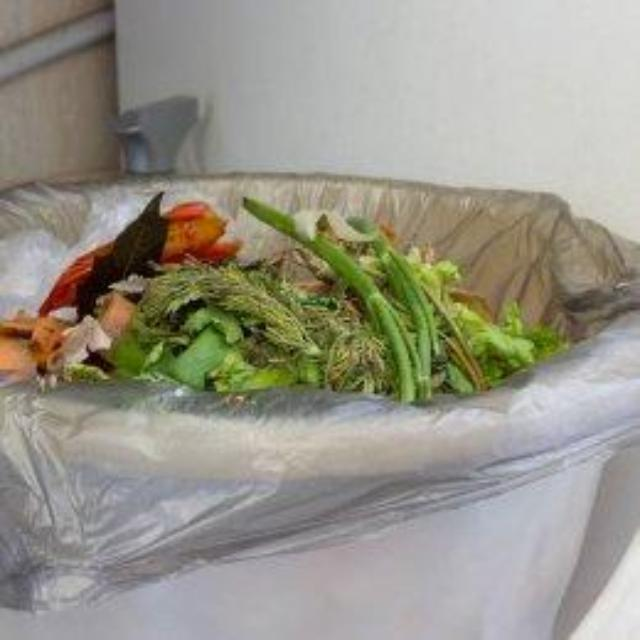Garbage: (0, 185, 585, 404)
